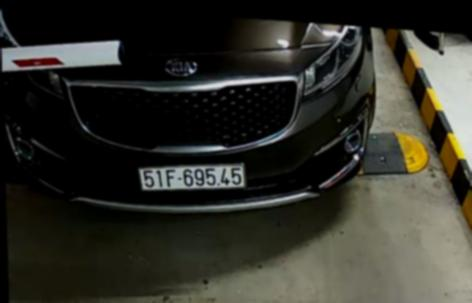License_Plate: (131, 154, 247, 200)
